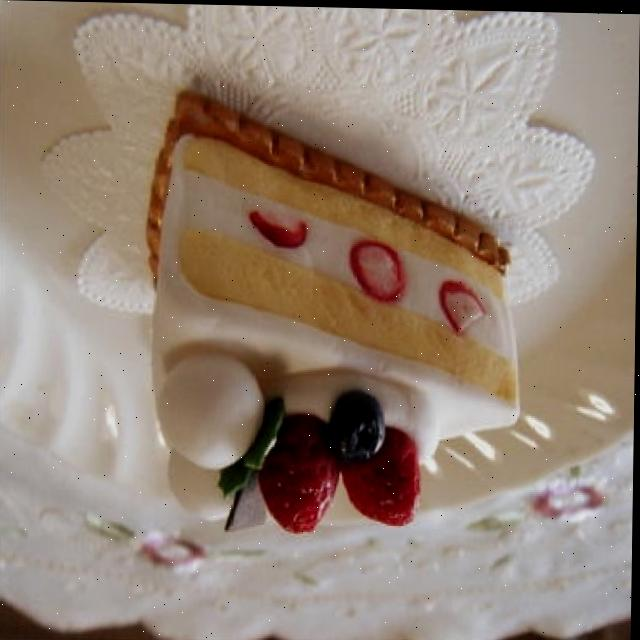蛋糕甜品: (56, 44, 588, 589)
